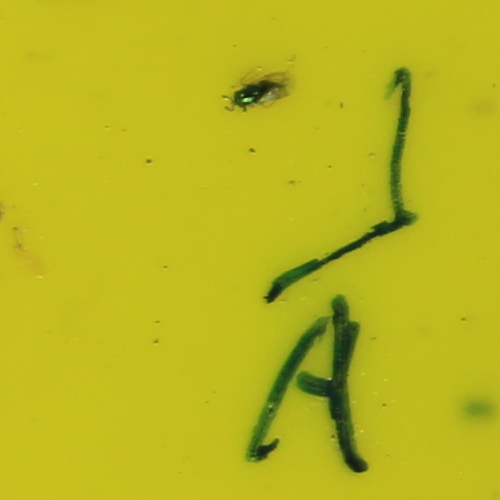wasp: (229, 77, 284, 107)
